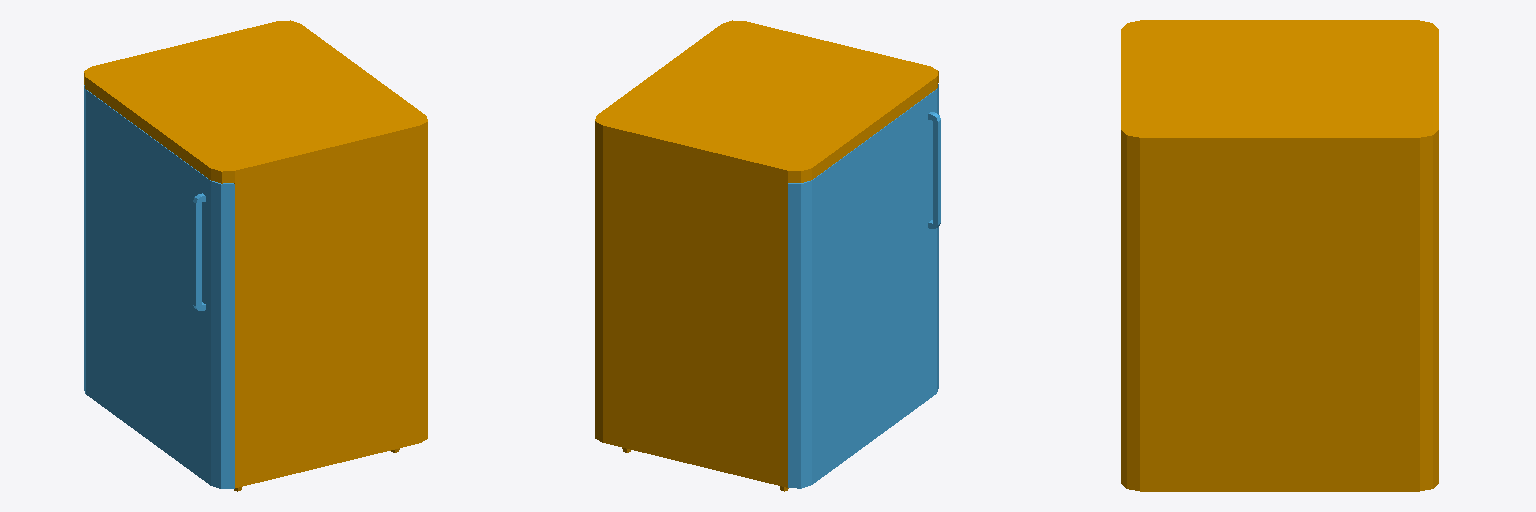
robot.urdf — Cabinet:
<robot name="Cabinet">
    <link name="corpus">
        <visual>
            <geometry>
                <mesh filename="meshes/corpus.obj"/>
            </geometry>
        </visual>
        <collision>
            <geometry>
                <mesh filename="meshes/corpus.obj"/>
            </geometry>
        </collision>
    </link>
    <link name="door">
        <inertial>
            <origin xyz="0.0 0.0 0.0" rpy="0.0 0.0 0.0"/>
            <mass value="0.0"/>
            <inertia ixx="0.0" ixy="0.0" ixz="0.0" iyy="0.0" iyz="0.0" izz="0.0"/>
        </inertial>
        <visual>
            <geometry>
                <mesh filename="meshes/door.obj"/>
            </geometry>
        </visual>
        <collision>
            <geometry>
                <mesh filename="meshes/door.obj"/>
            </geometry>
        </collision>
    </link>

    <joint name="door_hinge" type="revolute">
        <origin xyz="0.0 0.0 0.0" rpy="0.0 0.0 0.0"/>
        <parent link="corpus"/>
        <child link="door"/>
        <axis xyz="0.0 0.0 -1.0"/>
        <limit lower="0.0" upper="2.0944" effort="100.0" velocity="100.0"/>
    </joint>
</robot>

--- Facts derived from the render (not from the file) ---
Views: 3 orthographic renders of the robot side by side, from view 1: azimuth 30°, elevation 25°; view 2: azimuth 150°, elevation 25°; view 3: azimuth 270°, elevation 25°.
Robot: Cabinet — 2 links, 1 joints (1 revolute); root link corpus; default pose: all joints at 0.
Visible links, largest first — view 1: corpus, door; view 2: corpus, door; view 3: corpus.
Link boxes in pixels (x1,y1,x2,y2): corpus: [84, 20, 427, 491]; door: [84, 85, 234, 488]; corpus: [595, 20, 938, 491]; door: [788, 84, 940, 488]; corpus: [1121, 20, 1438, 491].
Bounding box of the posed robot: 0.1049 × 0.1152 × 0.1463 m (x, y, z).
2 mesh visuals loaded from 2 distinct referenced files (2 OBJ).